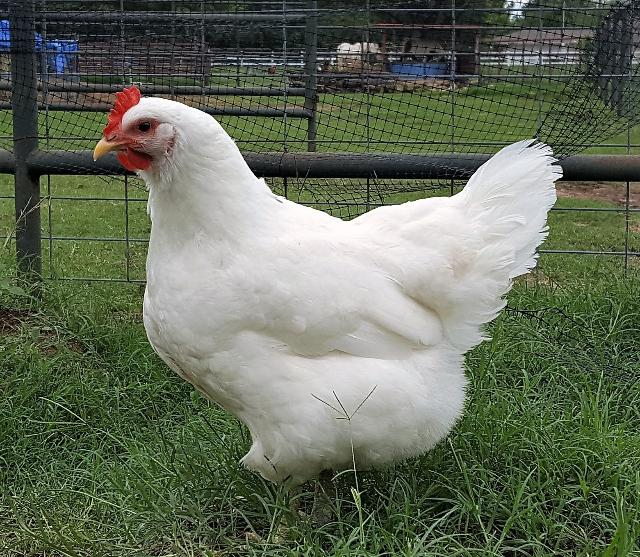Chicken: (93, 86, 564, 494)
